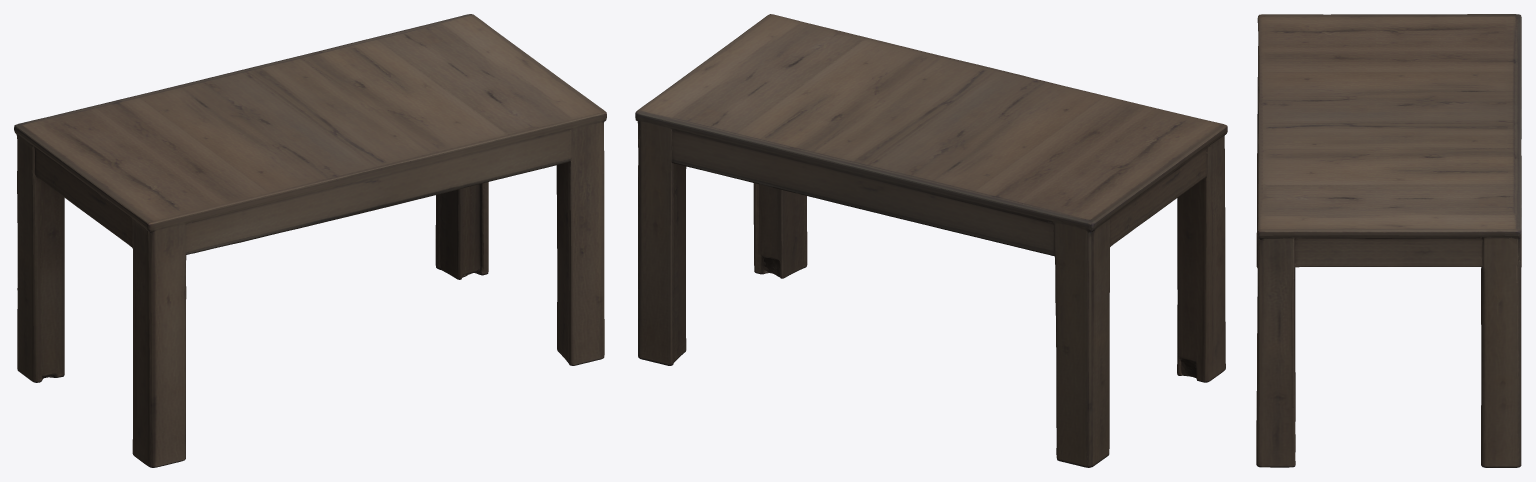
File: table.glb
3 renders of one model, left to right at view 1: azimuth 30°, elevation 25°; view 2: azimuth 150°, elevation 25°; view 3: azimuth 270°, elevation 25°, orthographic. The views are drawn at different scales.
Parts seen in each view (by area): view 1: world; view 2: world; view 3: world.
Part boxes in pixels (x1,y1,x2,y2): world: [14, 14, 606, 467]; world: [635, 14, 1227, 467]; world: [1256, 14, 1521, 467].
Size of the model in its own units: 1 by 0.5136 by 0.5169.
1 material, 1 textured.
